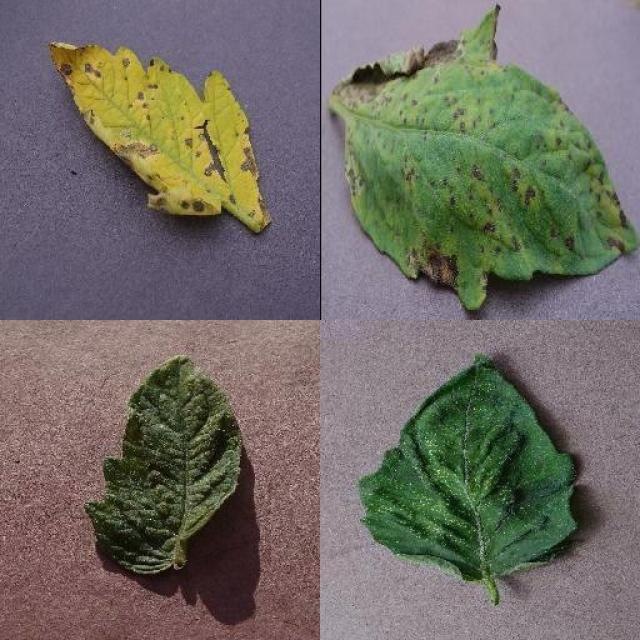Septoria: (329, 9, 639, 306), (48, 38, 272, 238)
